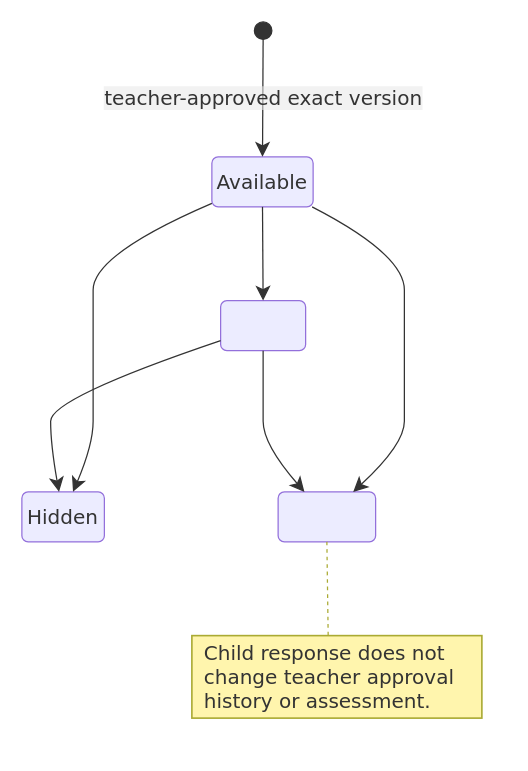
Some shapes in this 528 by 771 pixel diagram are drawn without their labels. Here are the shapes that lost their labels. From the top down, the box of each, then its label:
(219, 299, 306, 351): Viewed
(277, 491, 376, 542): Declined
